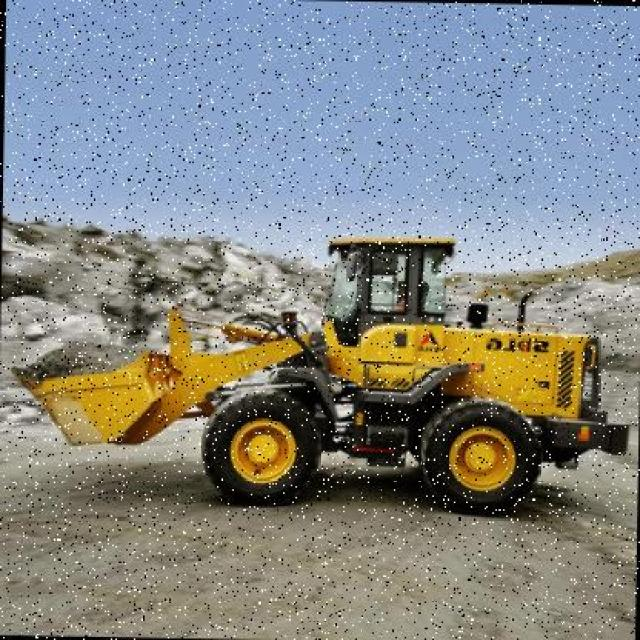buldozerpayloadergrader: (9, 222, 640, 518)
